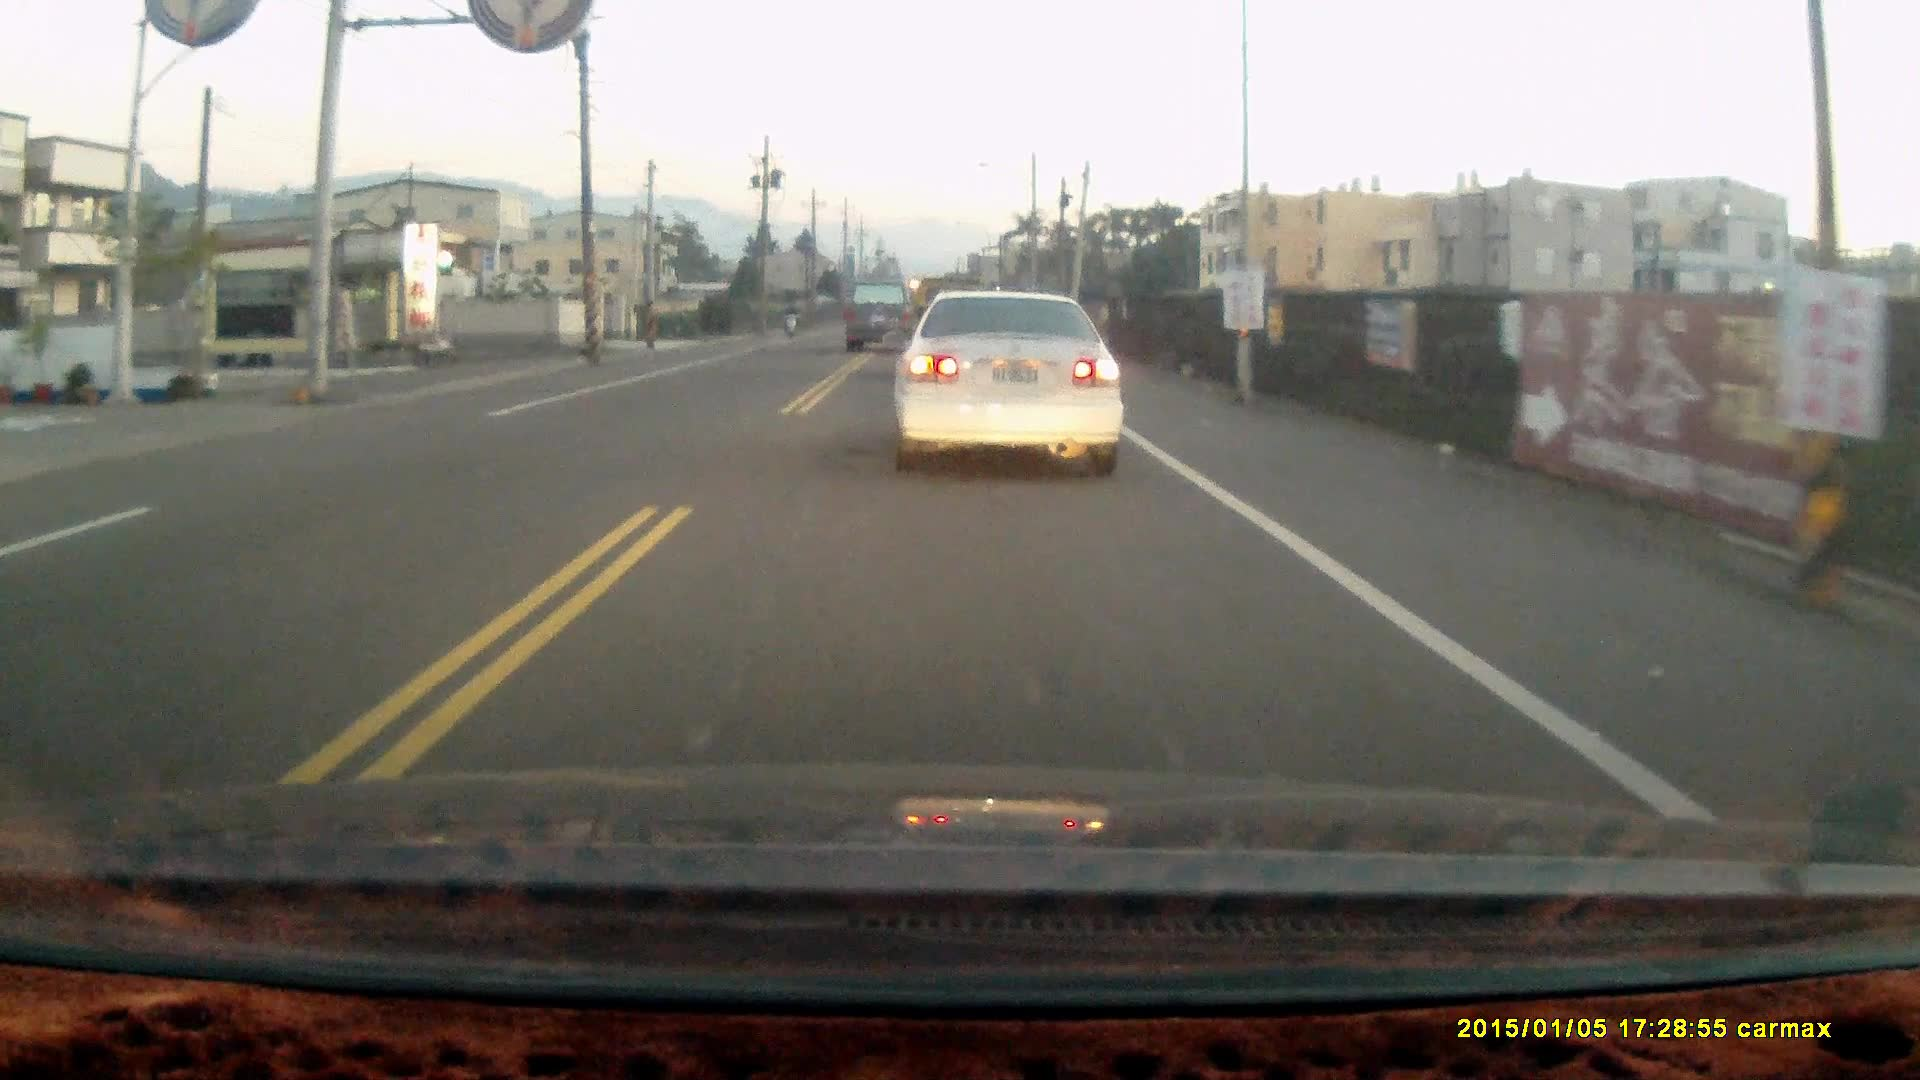rider: (780, 299, 800, 341)
vehicle: (888, 292, 1132, 484), (843, 279, 920, 357)
